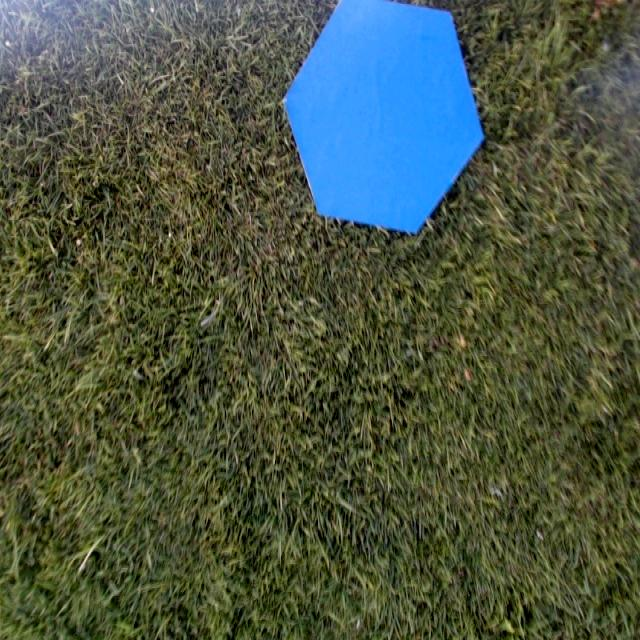blue_hexagon: (281, 1, 486, 238)
